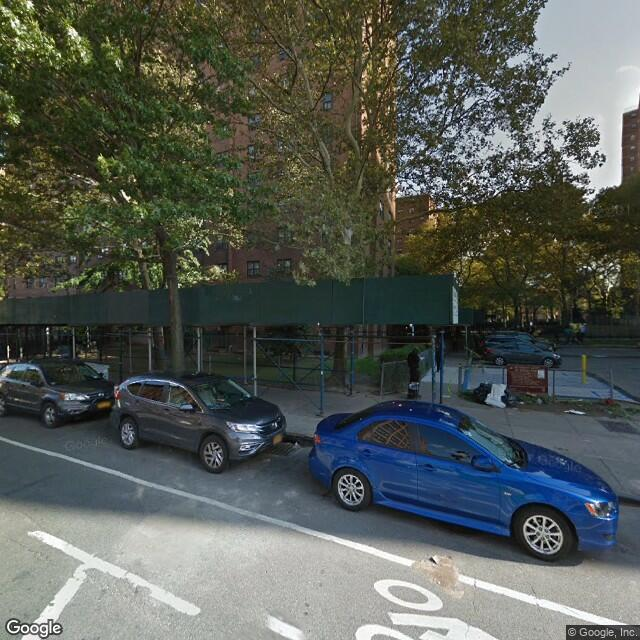litter: (559, 401, 589, 418), (425, 553, 441, 570), (290, 438, 302, 450)
